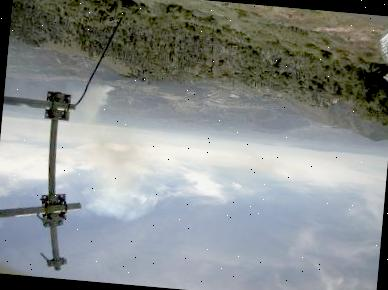smoke: (66, 83, 151, 194)
